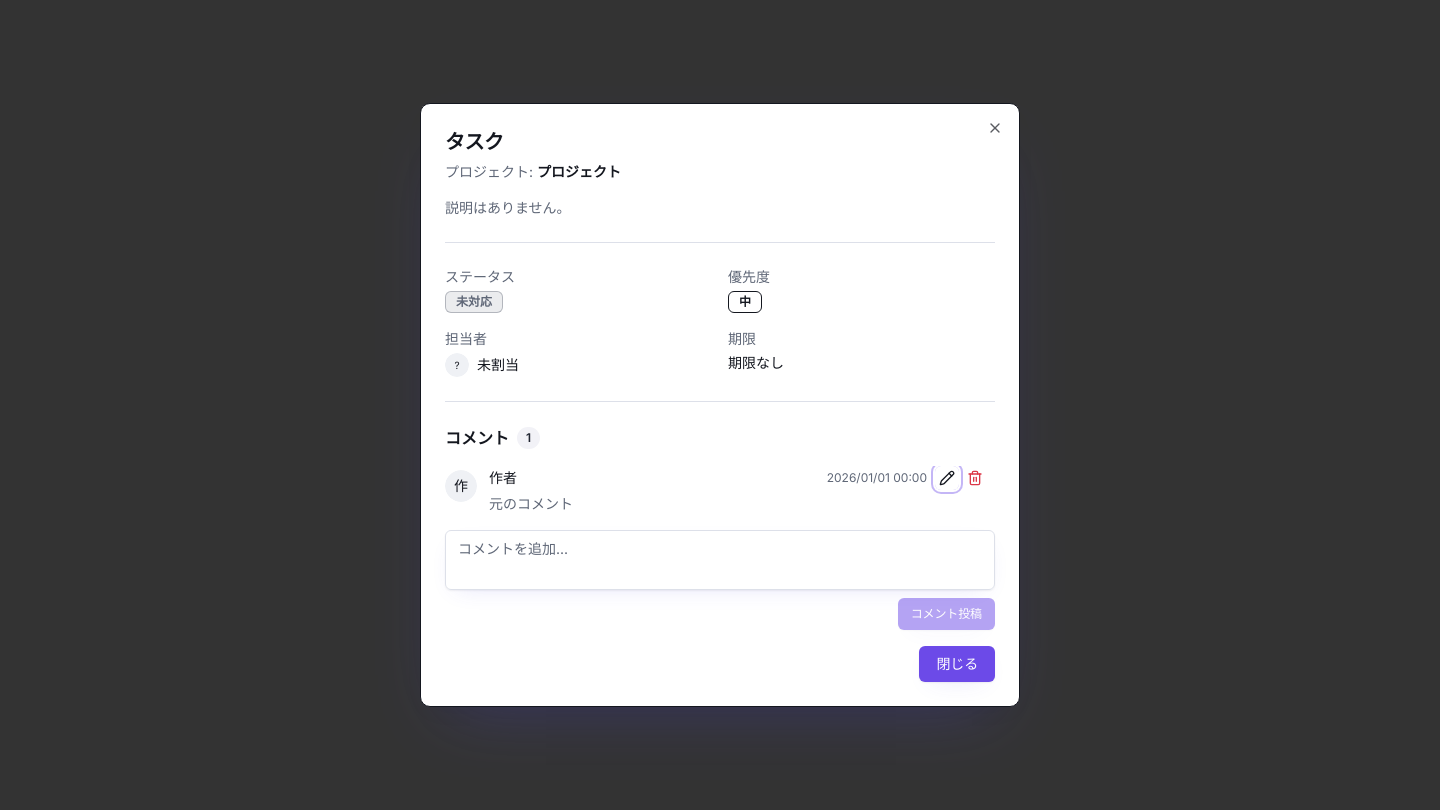
Scenario: 送信後の下書きと成功通知 › 投稿の送信後に書き足すと、成功しても下書きを残して警告を出す
The width and height of the screenshot is (1440, 810).
Step 1. Type "最初の本文" into the text box named "コメント本文" → (720,560), box [445,530,995,590]
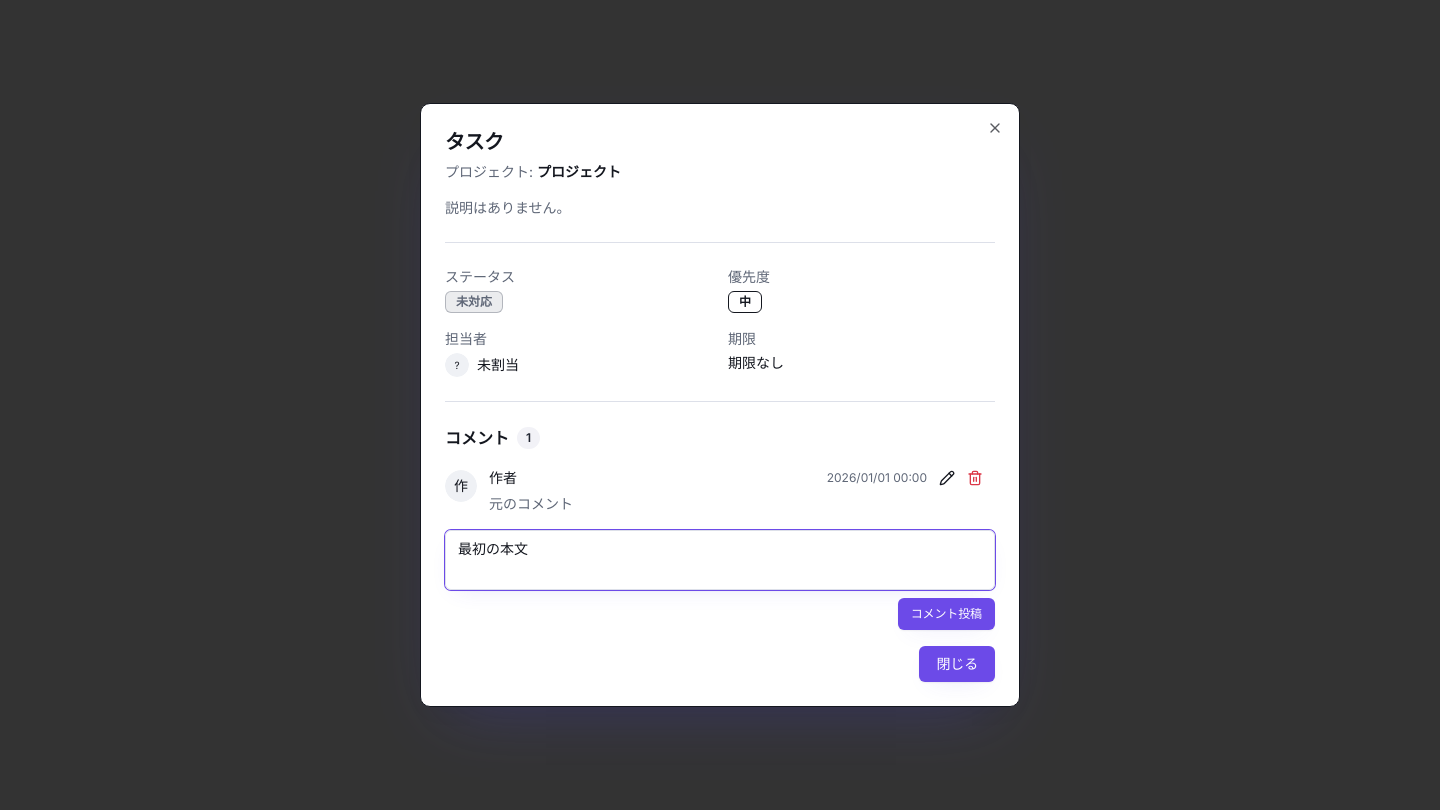
Step 2. Click the button "コメント投稿" → (946,614), box [898,598,995,630]
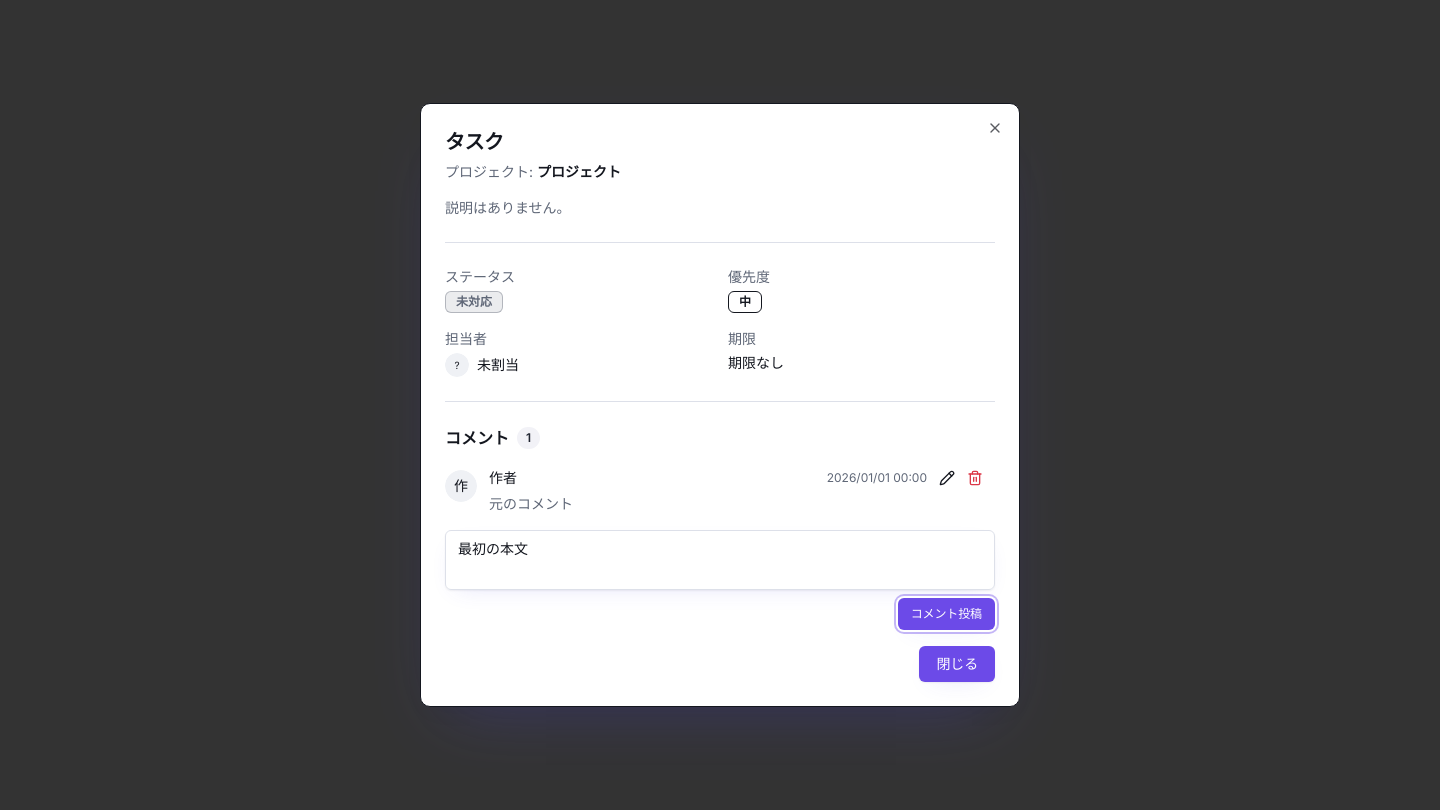
Note: 送信待ちの間に書き足す
Step 3. Type "追記" into the text box named "コメント本文" → (720,560), box [445,530,995,590]
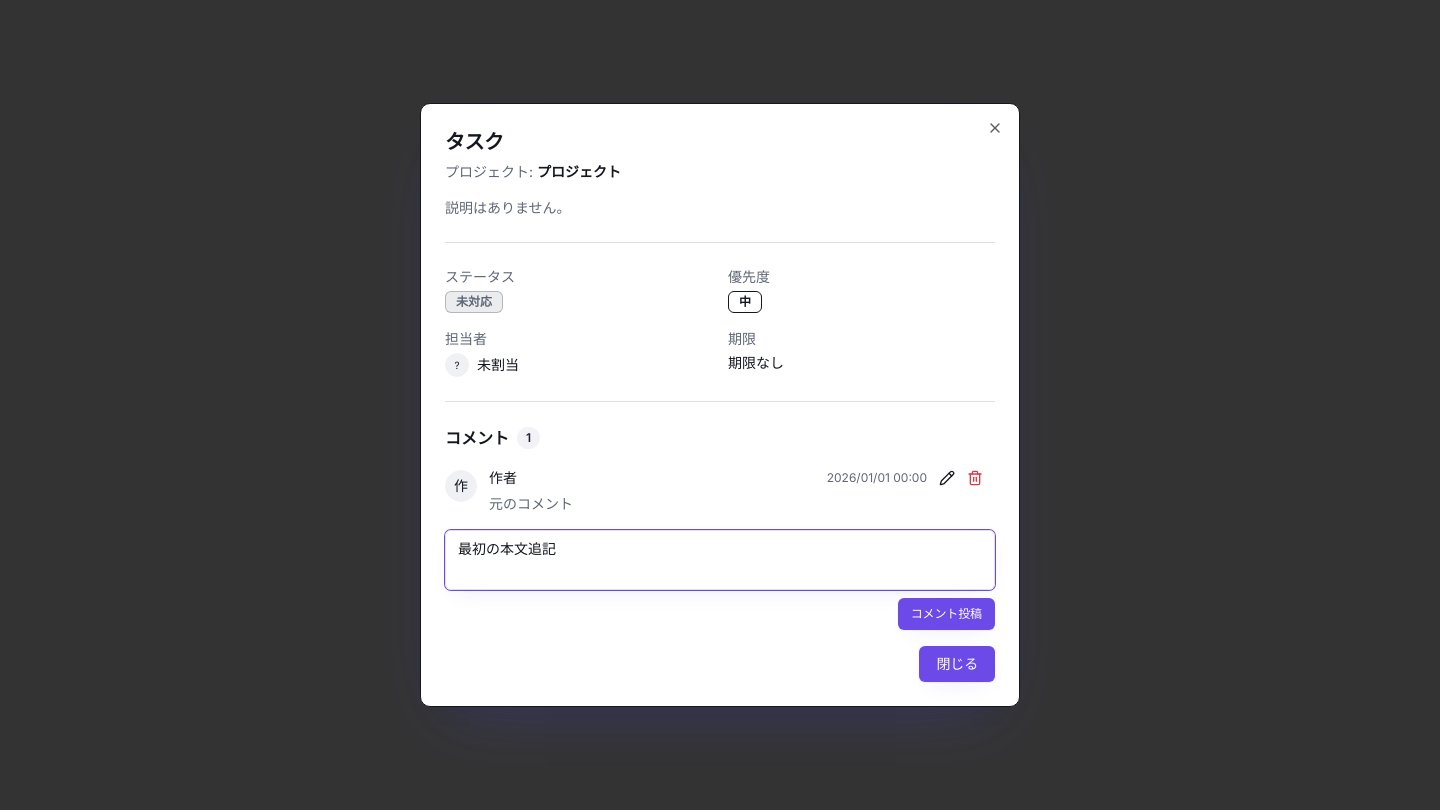
Expected: the text box named "コメント本文" holds "最初の本文追記", [445,530,995,590]
